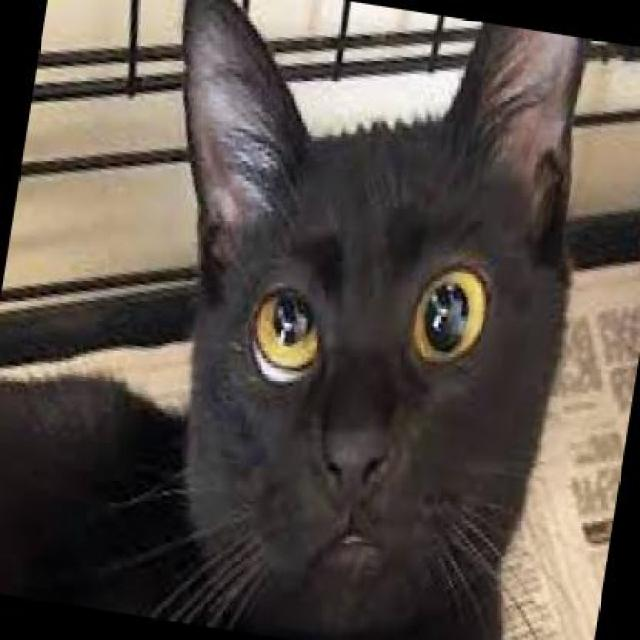animals: (83, 0, 612, 638)
